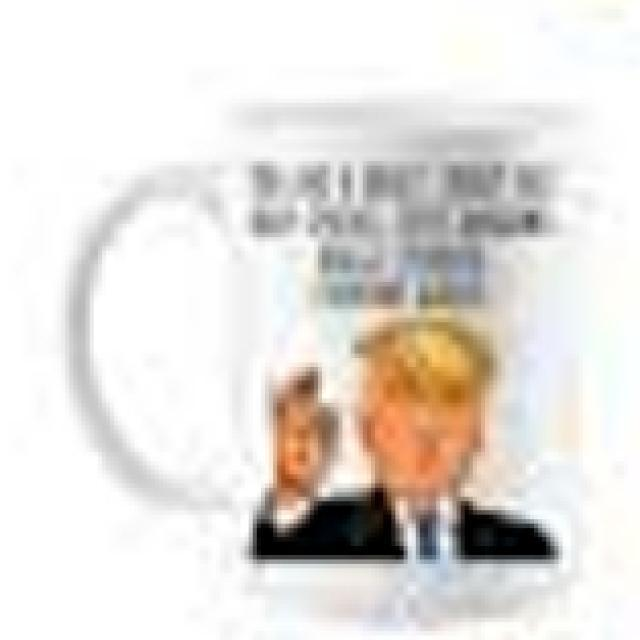taza: (42, 92, 612, 626)
